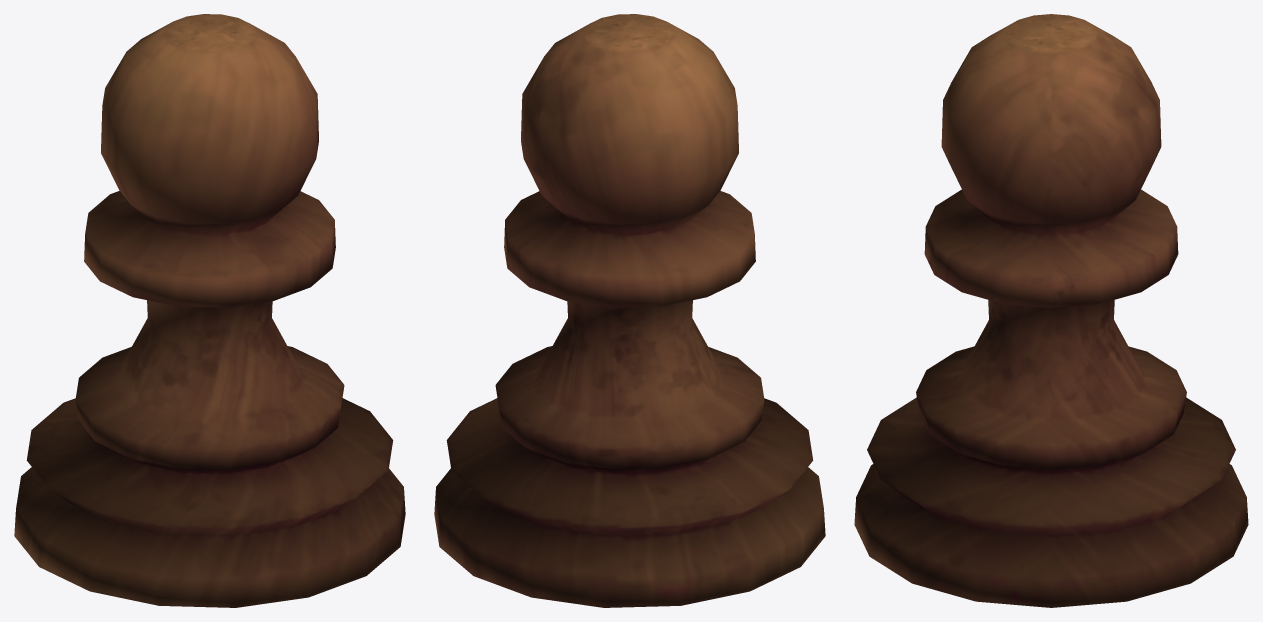
File: pawn.glb
The picture shows the model from 3 angles, left to right: view 1: azimuth 30°, elevation 25°; view 2: azimuth 150°, elevation 25°; view 3: azimuth 270°, elevation 25°; orthographic projection.
Visible parts, largest first — view 1: Pawn_8_Light; view 2: Pawn_8_Light; view 3: Pawn_8_Light.
Boxes of the visible parts, left/top/right/bottom form: Pawn_8_Light: left=14, top=14, right=405, bottom=607; Pawn_8_Light: left=434, top=14, right=825, bottom=607; Pawn_8_Light: left=854, top=14, right=1248, bottom=607.
Size of the model in its own units: 0.0913 by 0.1255 by 0.0913.
Materials: 1 (1 with a texture image).
